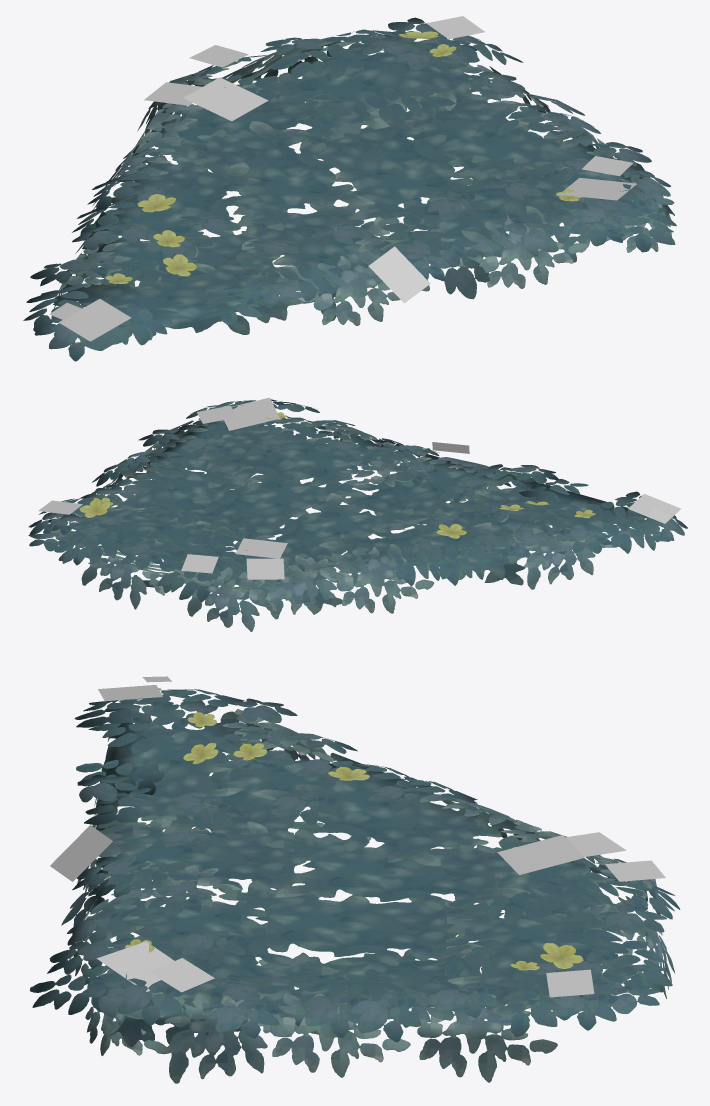
Rendered from pref_sm_beach_winter_techvegetation05_mirror_lv3.fbx.
3 views of the same model, one above another, from view 1: azimuth 30°, elevation 25°; view 2: azimuth 150°, elevation 25°; view 3: azimuth 270°, elevation 25° (orthographic). The views are drawn at different scales.
Parts seen in each view (by area): view 1: pref_sm_beach_winter_techvegetation05_mirror_lv3, sm_beach_winter_techvegetation05b_mirror_lv3; view 2: pref_sm_beach_winter_techvegetation05_mirror_lv3, sm_beach_winter_techvegetation05b_mirror_lv3; view 3: pref_sm_beach_winter_techvegetation05_mirror_lv3, sm_beach_winter_techvegetation05b_mirror_lv3.
Boxes of the visible parts, <box> form: pref_sm_beach_winter_techvegetation05_mirror_lv3: <box>23,17,676,361</box>; sm_beach_winter_techvegetation05b_mirror_lv3: <box>49,16,636,341</box>; pref_sm_beach_winter_techvegetation05_mirror_lv3: <box>28,399,687,631</box>; sm_beach_winter_techvegetation05b_mirror_lv3: <box>38,397,681,579</box>; pref_sm_beach_winter_techvegetation05_mirror_lv3: <box>30,688,680,1083</box>; sm_beach_winter_techvegetation05b_mirror_lv3: <box>50,676,665,997</box>.
Bounding box in the file's own units: 6.71 × 0.9352 × 5.36.
